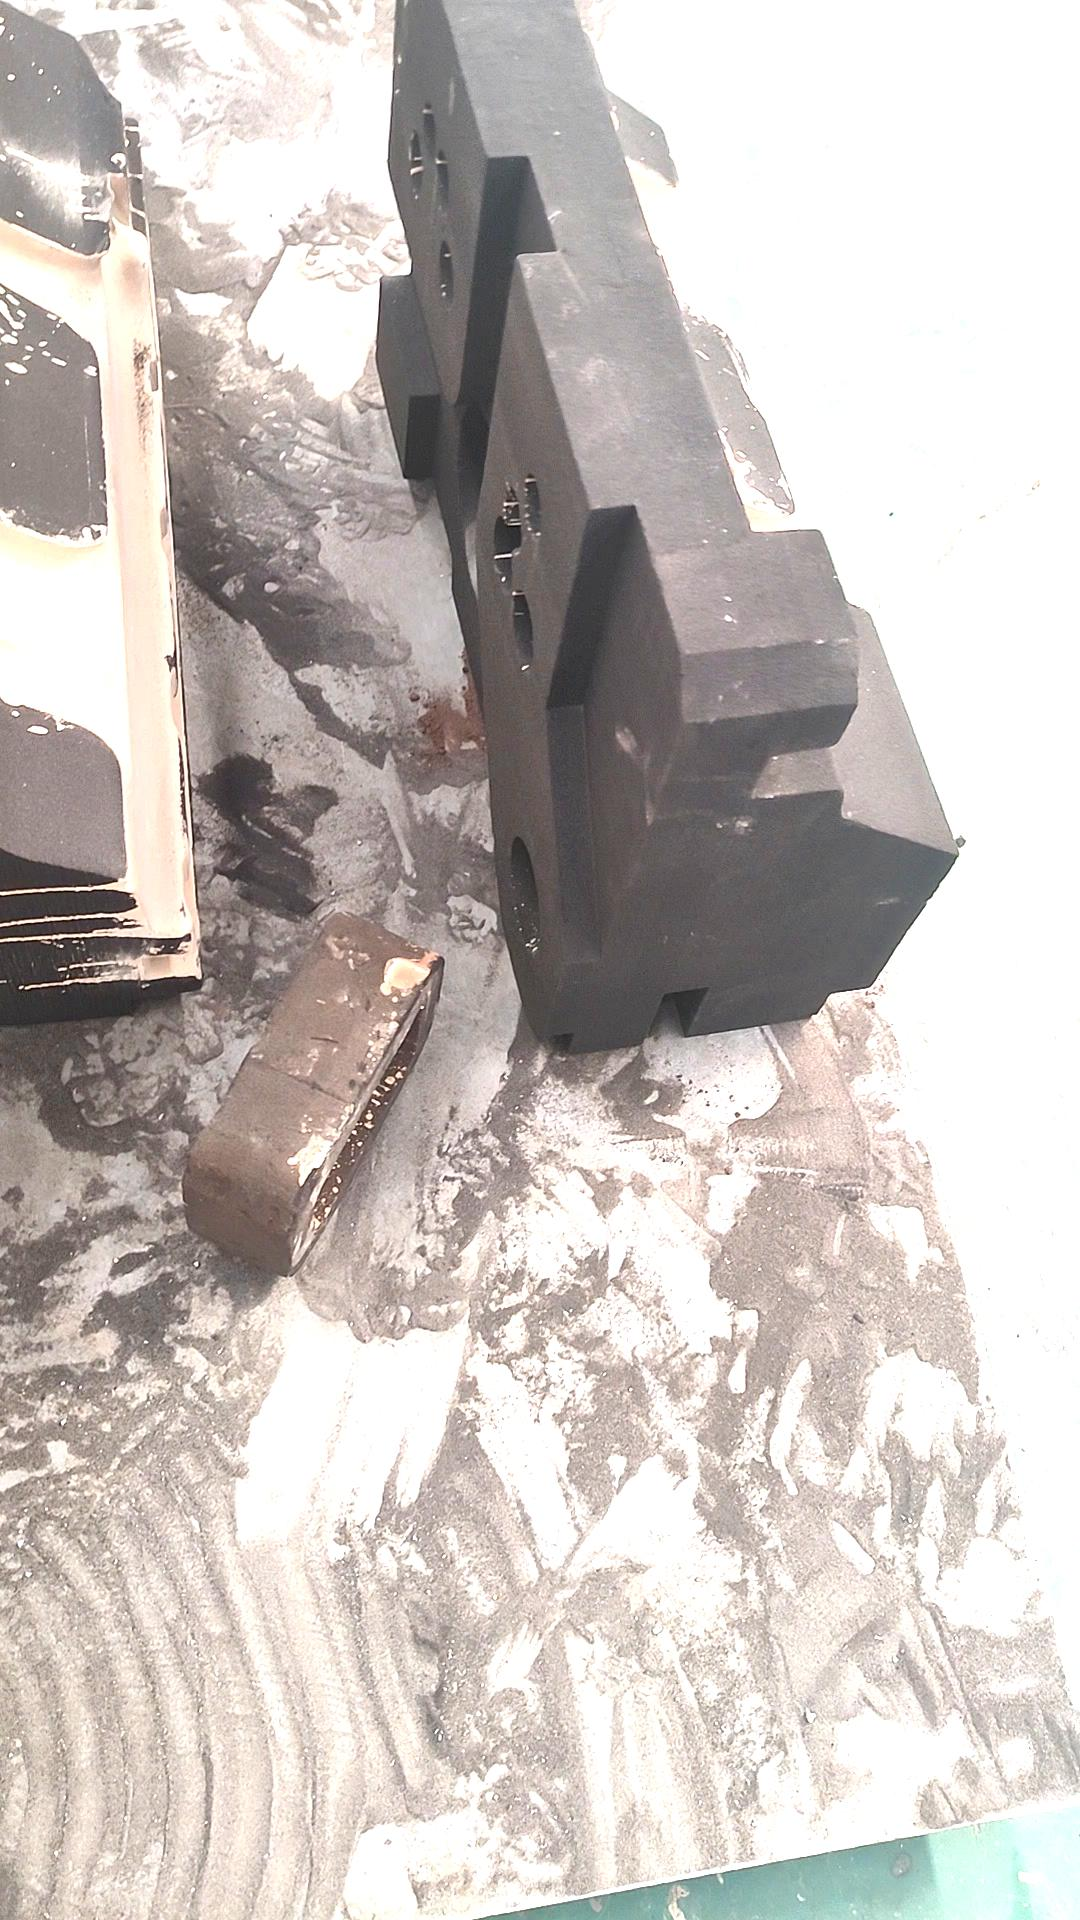pouring hole: (506, 837, 542, 953)
